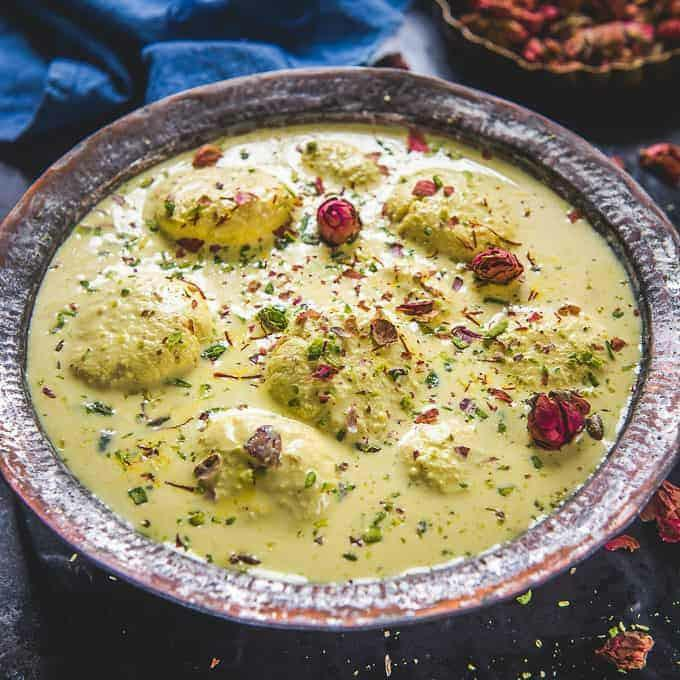RasMalai: (22, 115, 649, 583)
